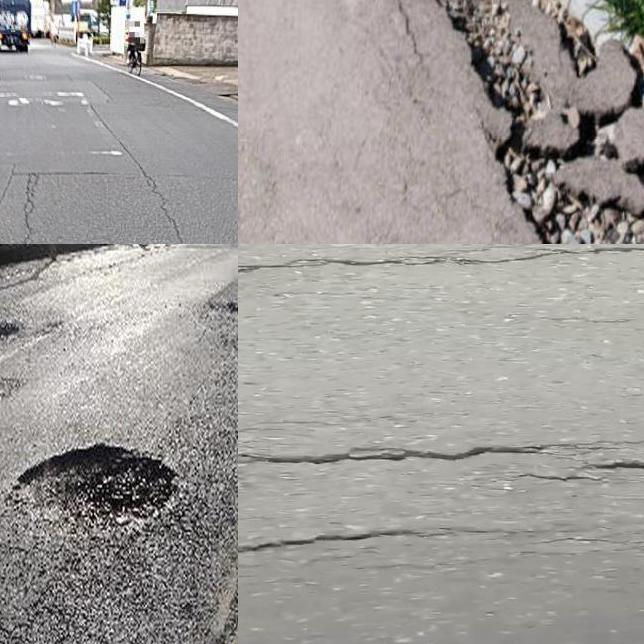Lubang: (14, 441, 177, 528), (0, 320, 26, 345)
Melintang: (238, 433, 644, 487), (238, 244, 644, 292), (238, 514, 522, 563)
Memanjang: (79, 105, 198, 244), (15, 169, 49, 244)
Pinggir: (409, 0, 644, 244)
